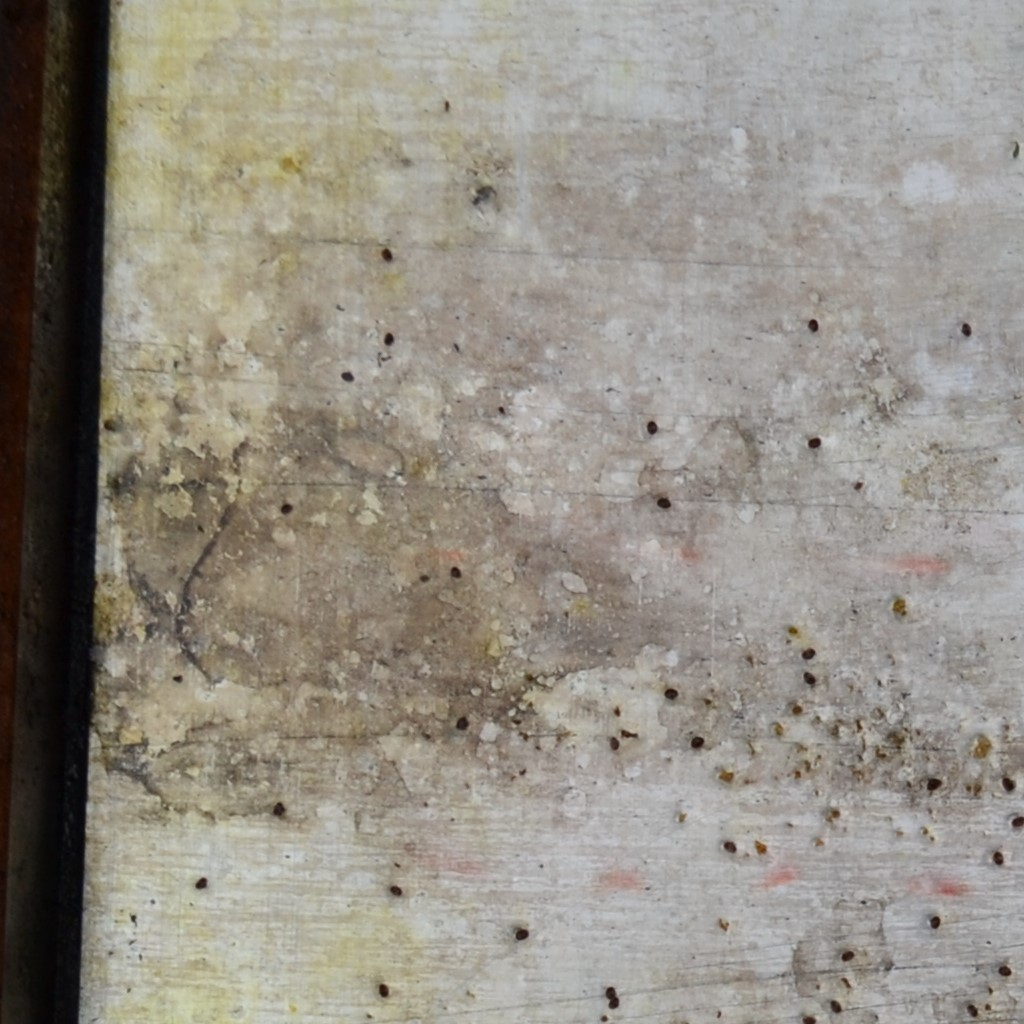varroa: (925, 771, 943, 796), (662, 684, 683, 703), (801, 666, 819, 688), (689, 730, 707, 752), (958, 317, 974, 340), (455, 712, 470, 735), (271, 800, 290, 818), (964, 999, 981, 1019), (799, 643, 817, 661), (513, 923, 530, 942), (193, 872, 209, 892), (807, 314, 823, 334), (653, 493, 673, 509), (828, 996, 844, 1015), (607, 732, 622, 752), (381, 243, 395, 264), (377, 977, 391, 998), (806, 433, 823, 450), (723, 837, 739, 855), (645, 416, 660, 435), (839, 947, 855, 964), (1002, 774, 1015, 794), (339, 367, 355, 382), (279, 500, 295, 515), (388, 881, 404, 896), (929, 911, 941, 931), (998, 963, 1014, 977), (449, 563, 462, 579), (605, 982, 618, 998), (1011, 811, 1023, 828), (799, 1013, 819, 1023), (993, 848, 1004, 866), (383, 328, 394, 345), (608, 998, 620, 1011)
